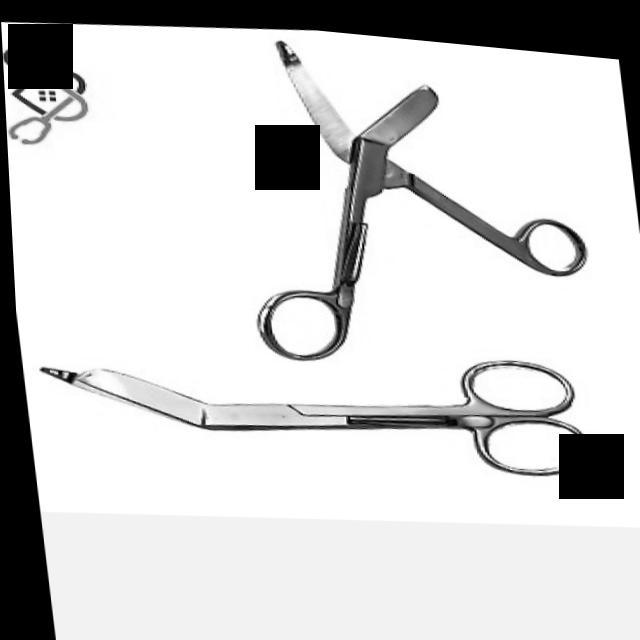Bandage Sciccors: (215, 16, 601, 382), (15, 303, 602, 509)
